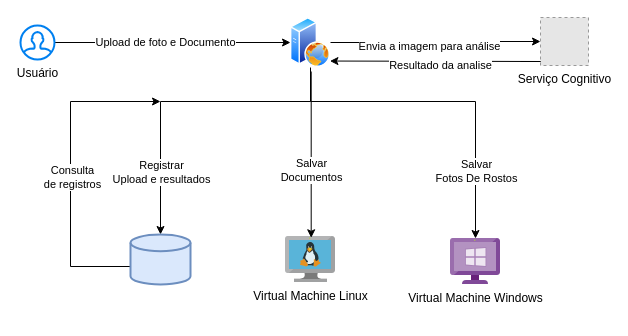
Image size: 628x336. Some labels were removed from this diagram. Grey dashed boxes stand in for pictures. The shapes that lost their labels are listed below. From the top down, each one's centre as x and y in pixels, then its label:
At (310,42): "Azure Webapp".
At (160,259): "Banco de Dados".
